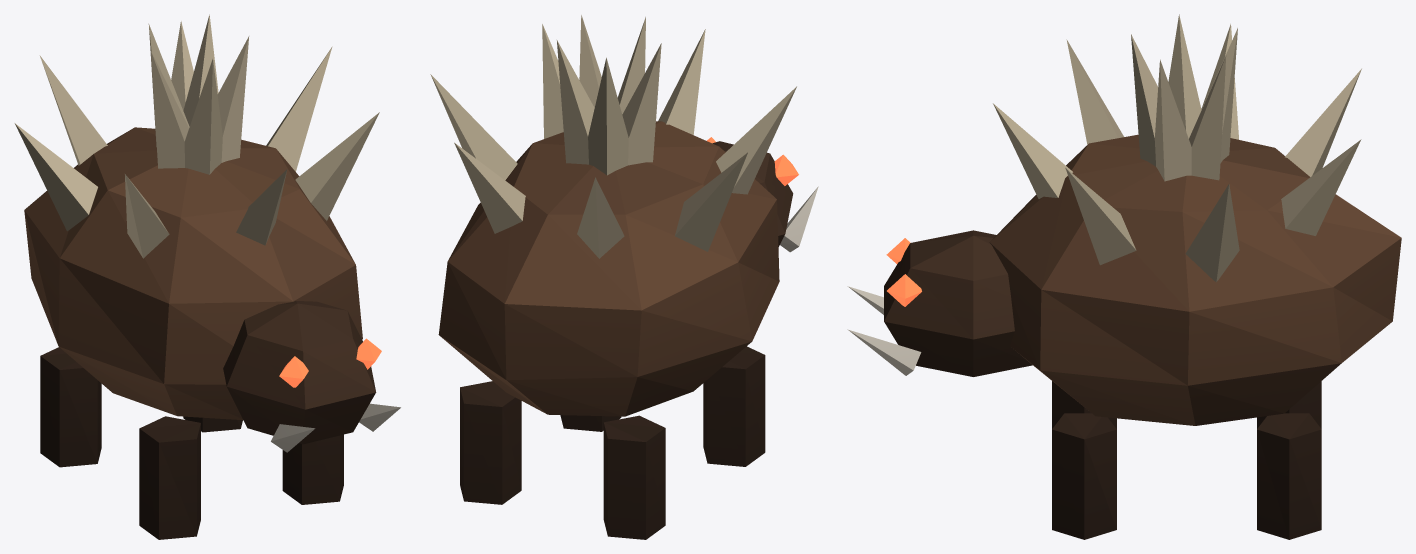
The model's file is thornback.glb.
The picture shows the model from 3 angles, left to right: view 1: azimuth 30°, elevation 25°; view 2: azimuth 150°, elevation 25°; view 3: azimuth 270°, elevation 25°; orthographic projection. The views are drawn at different scales.
Visible parts, largest first — view 1: thornback; view 2: thornback; view 3: thornback.
Boxes of the visible parts, bbox=[...] form: thornback: bbox=[14, 14, 400, 539]; thornback: bbox=[430, 15, 818, 539]; thornback: bbox=[847, 14, 1401, 539].
Size of the model in its own units: 0.4436 by 0.5839 by 0.6497.
